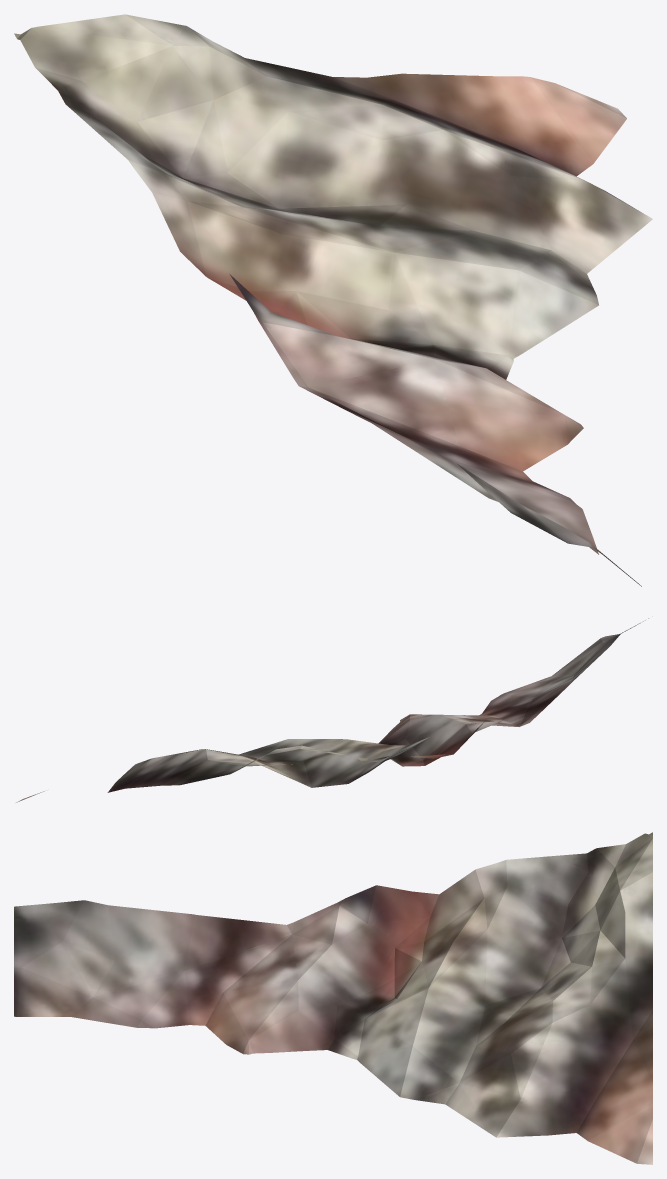
3 renders of one model, top to bottom at view 1: azimuth 30°, elevation 25°; view 2: azimuth 150°, elevation 25°; view 3: azimuth 270°, elevation 25°, orthographic. The views are drawn at different scales.
Size of the model in its own units: 0.5878 by 0.2084 by 0.8374.
1 material, 1 textured.
